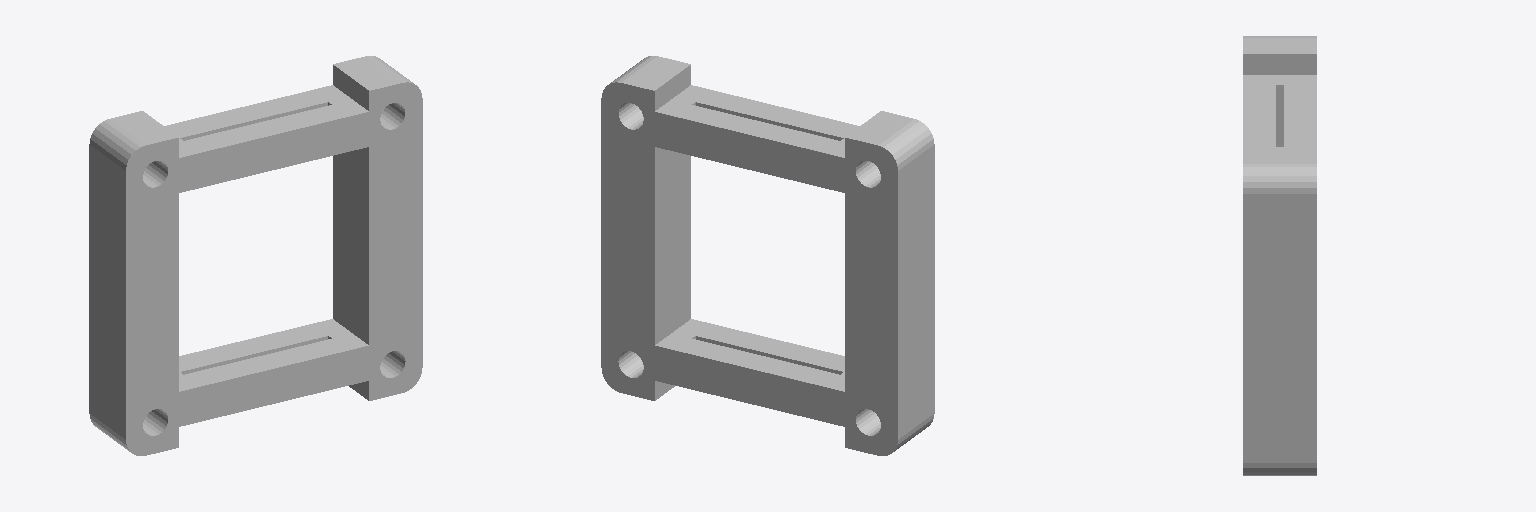
Rendered from Experimental Microscope slide holder v3.obj.
The picture shows the model from 3 angles: view 1: azimuth 30°, elevation 25°; view 2: azimuth 150°, elevation 25°; view 3: azimuth 270°, elevation 25°; orthographic projection.
Visible parts, largest first — view 1: Body1; view 2: Body1; view 3: Body1.
Boxes of the visible parts, x1,y1,x2,y2 form: Body1: [89, 56, 422, 455]; Body1: [601, 56, 934, 455]; Body1: [1243, 36, 1316, 475].
Size of the model in its own units: 7.5 by 7.5 by 1.6.